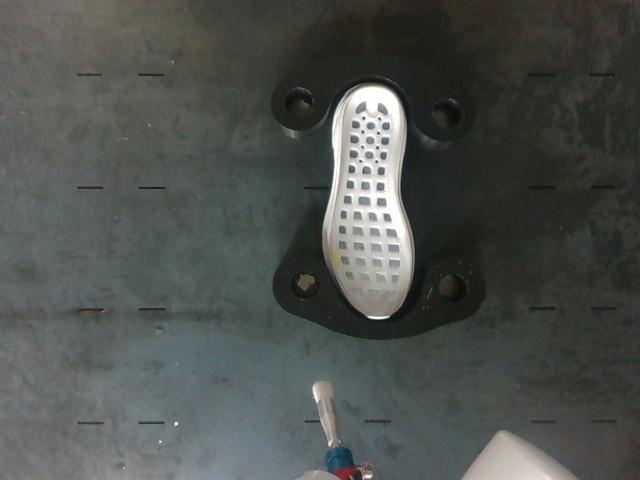shoes: (331, 84, 411, 318)
